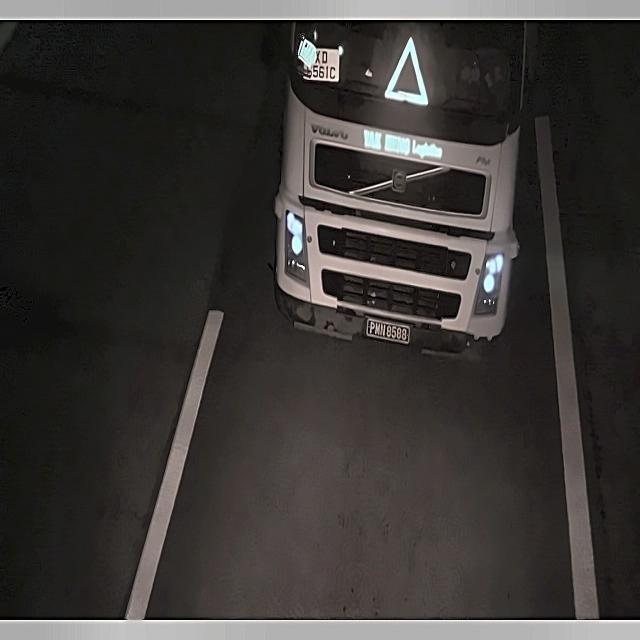car: (361, 317, 416, 350)
